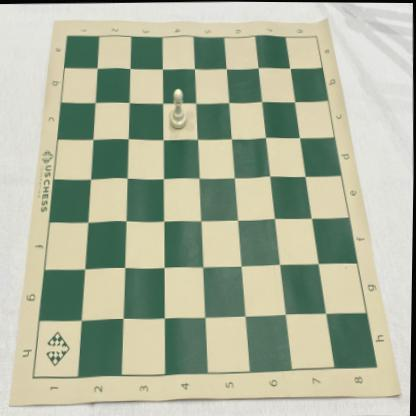white-pawn: (168, 87, 187, 130)
